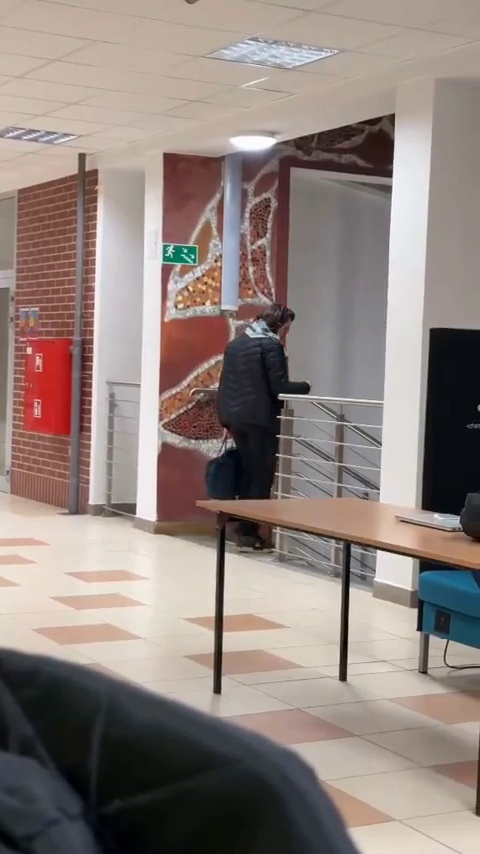no vest: (219, 302, 302, 547)
